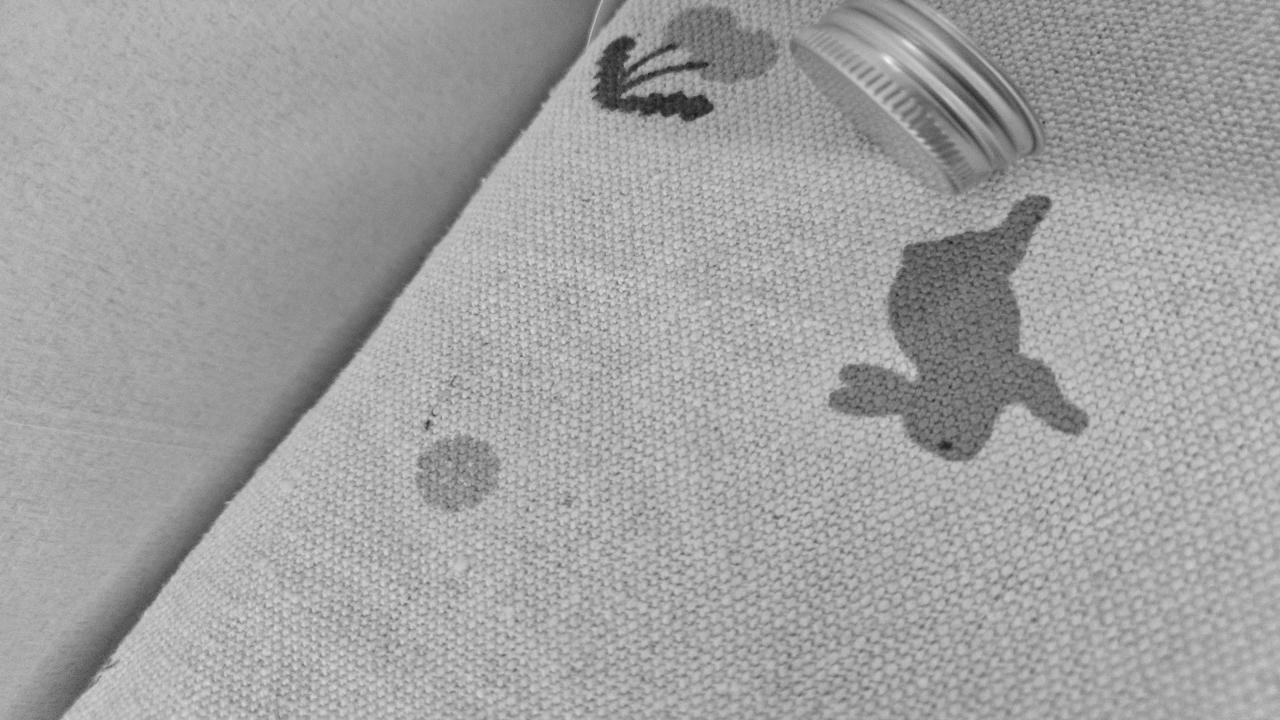bottle_cap: (799, 3, 1040, 195)
